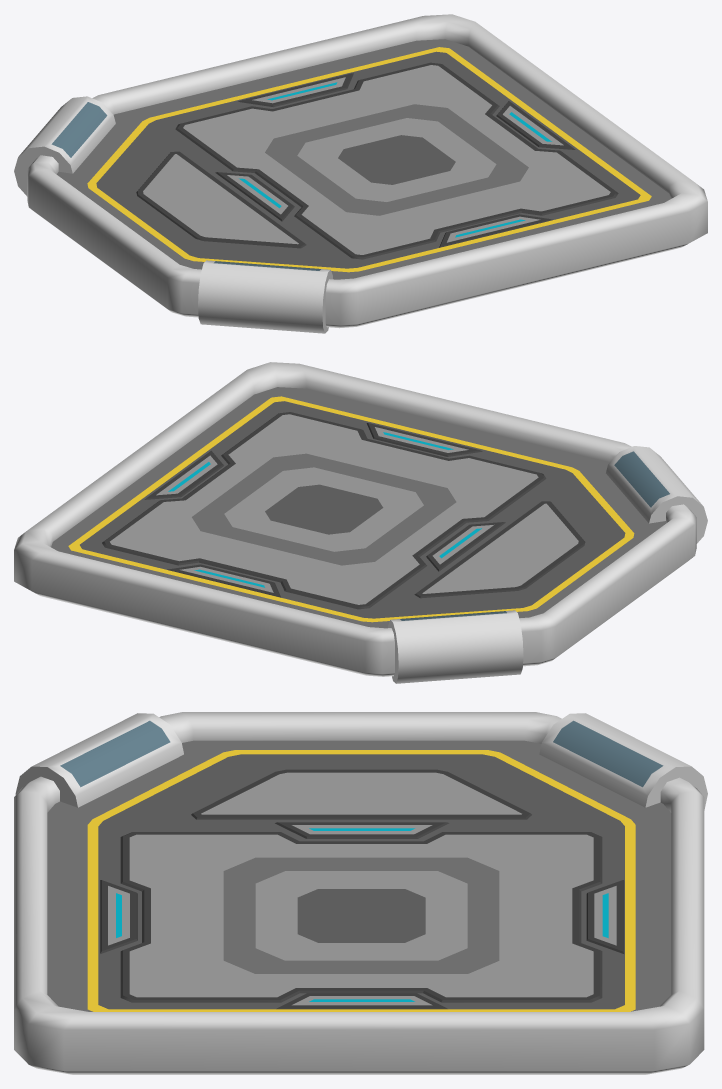
Rendered from platform_005.fbx.
3 renders of one model, top to bottom at view 1: azimuth 30°, elevation 25°; view 2: azimuth 150°, elevation 25°; view 3: azimuth 270°, elevation 25°, orthographic. The views are drawn at different scales.
Visible parts, largest first — view 1: platform_005; view 2: platform_005; view 3: platform_005.
Boxes of the visible parts, x1,y1,x2,y2 form: platform_005: (14, 14, 707, 333); platform_005: (14, 362, 707, 683); platform_005: (14, 712, 707, 1074).
Size of the model in its own units: 1874 by 1751 by 212.
